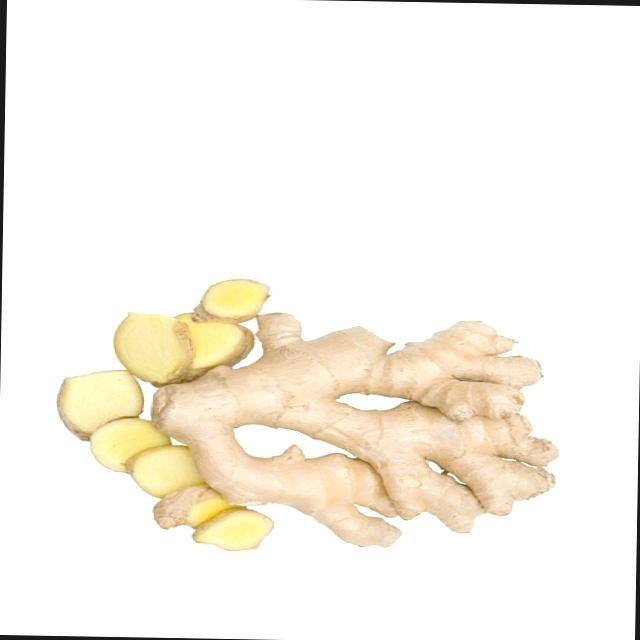ginger-root: (142, 291, 571, 558)
